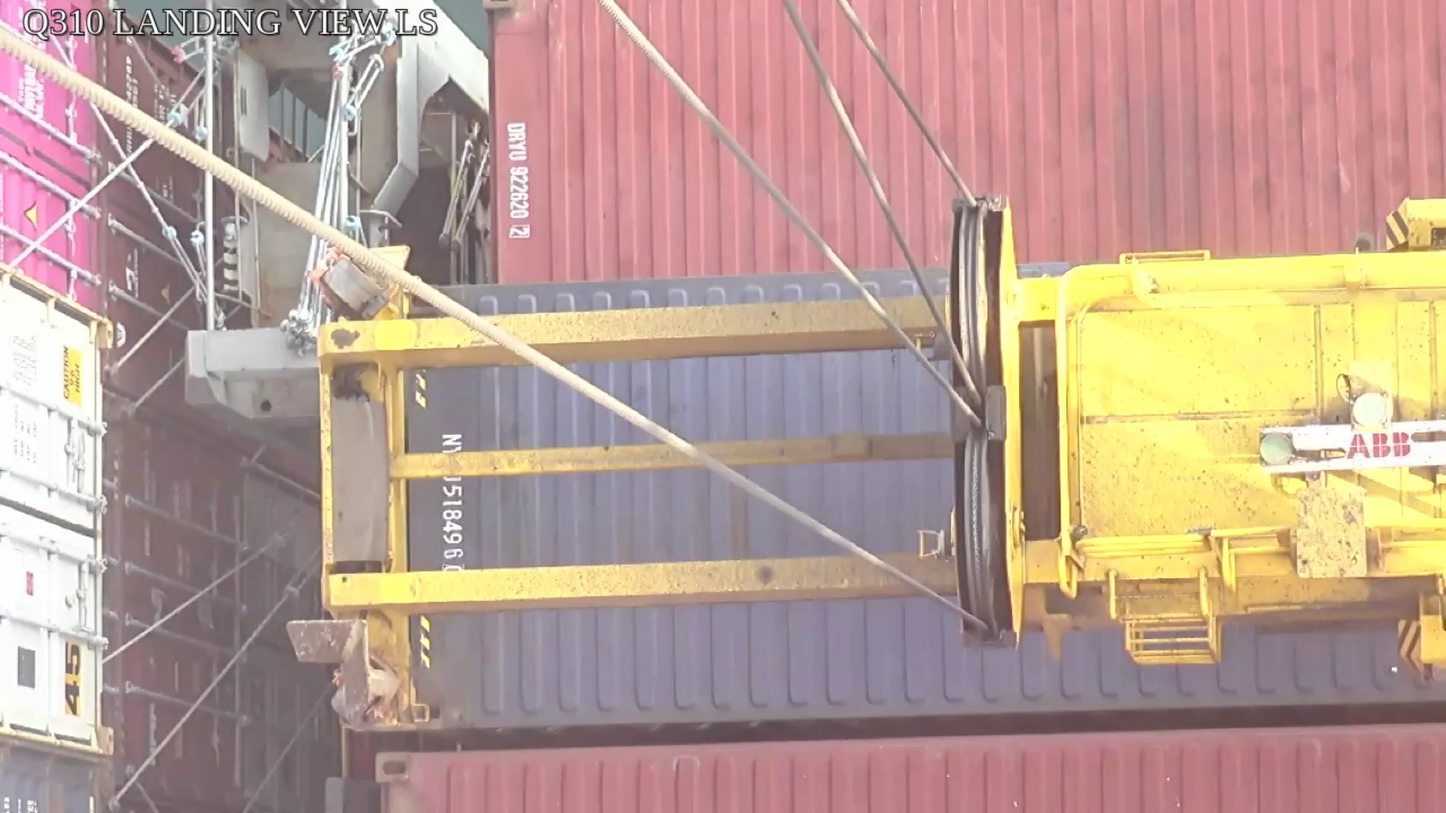aa: (949, 199, 1031, 653)
